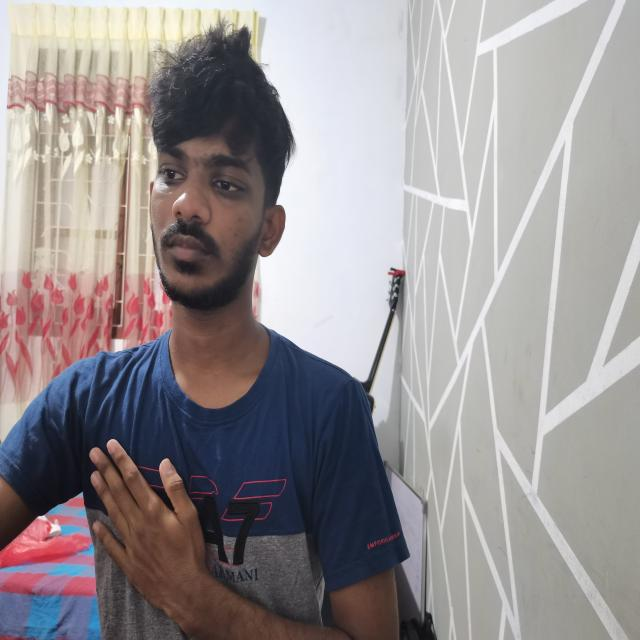Please: (85, 433, 411, 640)
